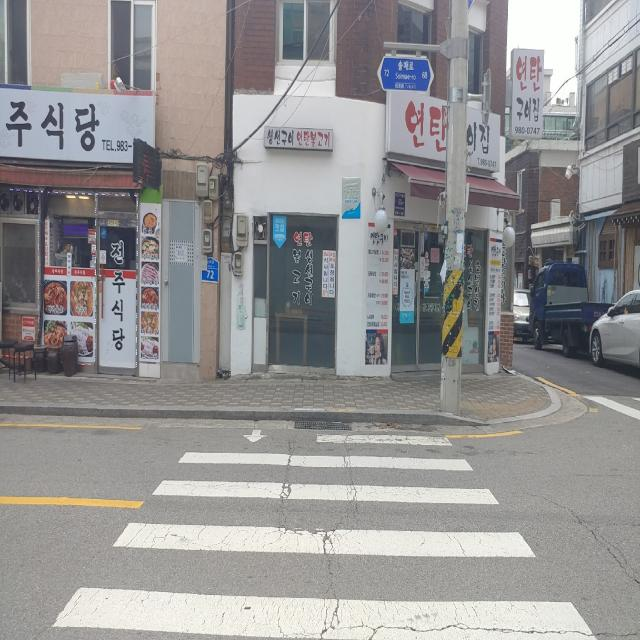횡단보도: (52, 428, 597, 640), (581, 394, 640, 418)
